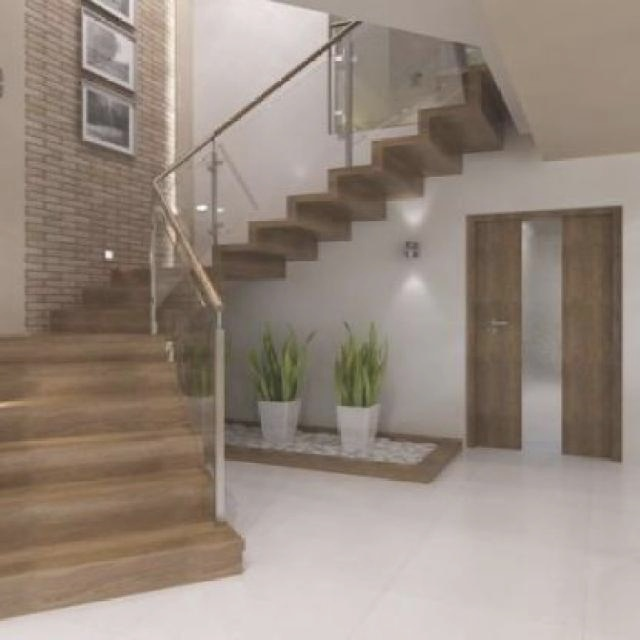stair: (0, 27, 558, 287), (0, 294, 302, 578)
